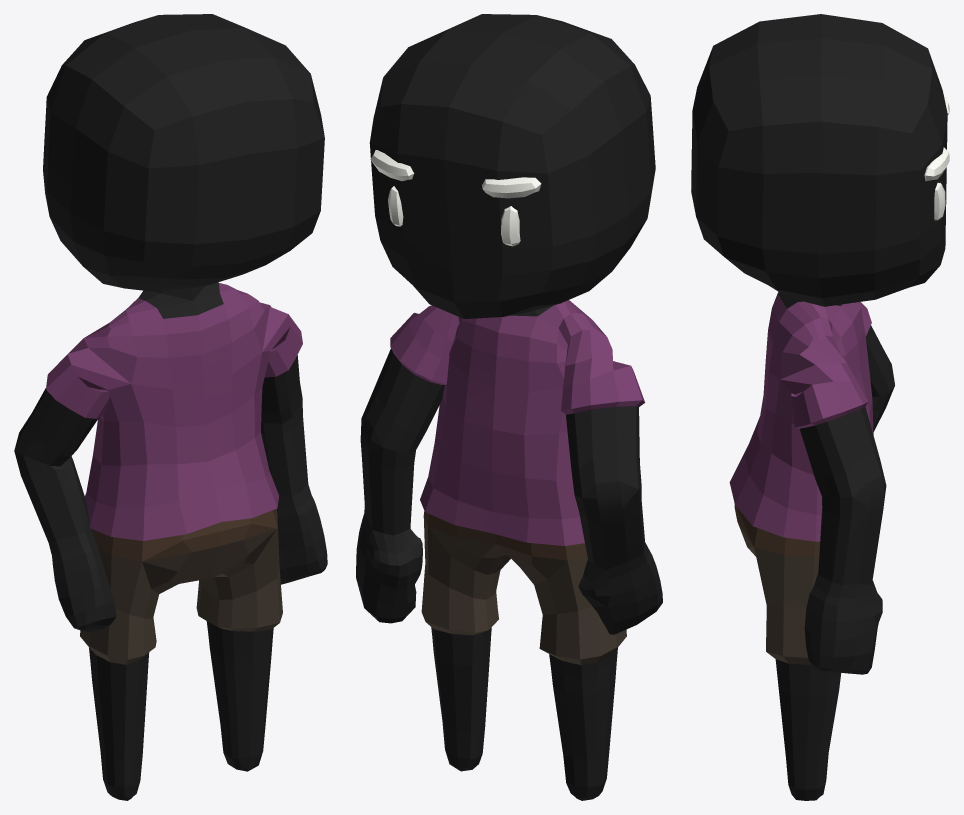
Rendered from Moun_Casual_Bald_Stand.fbx.
3 renders of one model, left to right at view 1: azimuth 30°, elevation 25°; view 2: azimuth 150°, elevation 25°; view 3: azimuth 270°, elevation 25°, orthographic.
Visible parts, largest first — view 1: Moun_Casual_Bald_Stand; view 2: Moun_Casual_Bald_Stand; view 3: Moun_Casual_Bald_Stand.
Boxes of the visible parts, x1=… form: Moun_Casual_Bald_Stand: x1=14, y1=14, x2=327, y2=800; Moun_Casual_Bald_Stand: x1=356, y1=14, x2=662, y2=800; Moun_Casual_Bald_Stand: x1=691, y1=14, x2=949, y2=800.
Size of the model in its own units: 0.6751 by 1.63 by 0.5183.
